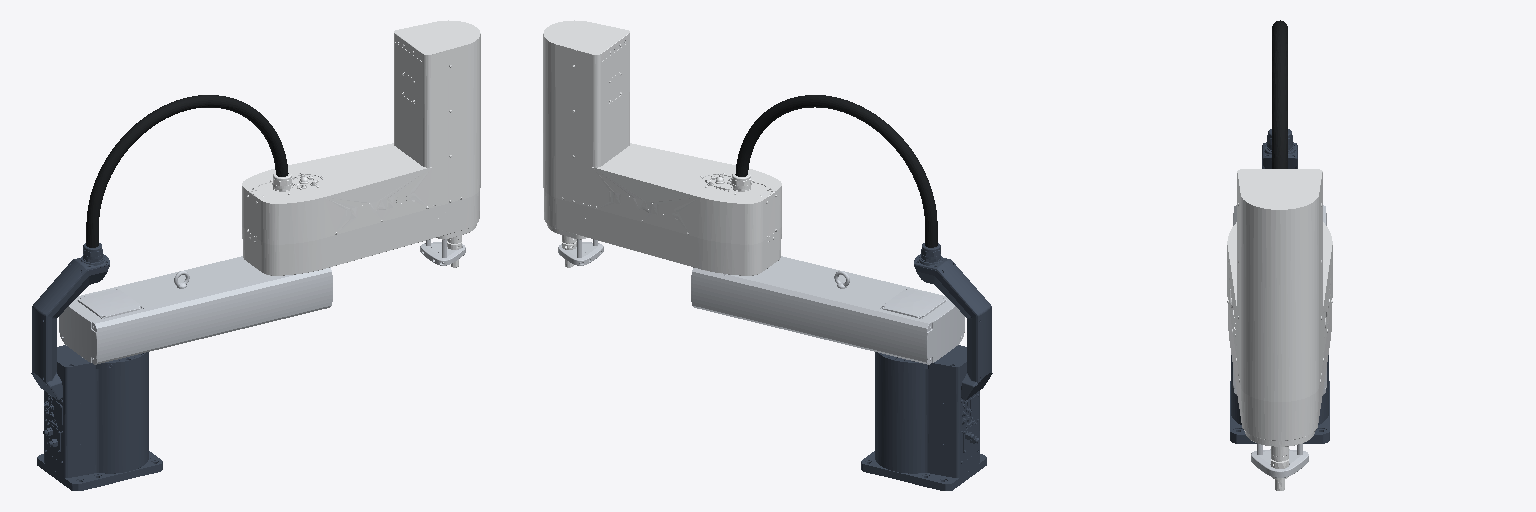
robot.urdf — IR-GS60-120Z40S5-C1LNSX-INT_01741178:
<?xml version="1.0"?>
<!-- Firmware source: params_package/Standard/Body/IR-GS60-120Z40S5-C1LNSX-INT_01741178/IR-GS60-120Z40S5-C1LNSX-INT_01741178.json; SHA256 c42f852a121e8f75b87a5e40a6e1e3116433f57a8d3c2ce19d96fe54a3c46a53. -->
<!-- Z-up; STL mm scaled to m. Effective firmware mass properties are SI and transformed into CAD link frames. -->
<!-- Revolute effort is nominal output torque; prismatic effort is ideal screw force. See physics-audit.json for approximations. -->
<robot name="IR-GS60-120Z40S5-C1LNSX-INT_01741178">
  <link name="base_link">

    <visual name="base">
      <origin xyz="0 0 0" rpy="0 0 0"/>
      <geometry>
        <mesh filename="../models/IR-GS60-120Z40/P0.stl" scale="0.001 0.001 0.001"/>
      </geometry>
      <material name="base_material">
        <color rgba="0.31 0.35 0.41 1"/>
      </material>
    </visual>
    <collision name="base_collision">
      <origin xyz="0 0 0" rpy="0 0 0"/>
      <geometry>
        <mesh filename="../models/IR-GS60-120Z40/P0.stl" scale="0.001 0.001 0.001"/>
      </geometry>
    </collision>

    <visual name="conduit">
      <origin xyz="0 0 0" rpy="0 0 0"/>
      <geometry>
        <mesh filename="../models/IR-GS60-120Z40/TUBE.stl" scale="0.001 0.001 0.001"/>
      </geometry>
      <material name="conduit_material">
        <color rgba="0.16 0.17 0.18 1"/>
      </material>
    </visual>
    <collision name="conduit_collision">
      <origin xyz="0 0 0" rpy="0 0 0"/>
      <geometry>
        <mesh filename="../models/IR-GS60-120Z40/TUBE.stl" scale="0.001 0.001 0.001"/>
      </geometry>
    </collision>
  </link>

  <link name="link_1">

    <!-- inertial source: bounding-box-fallback -->
    <!-- SCARA firmware contains planar inertia, not a full 3D tensor; uniform mesh-bounds approximation -->
    <inertial>
      <origin xyz="0.300010398865 0.0000001297 0.098740753174" rpy="0 0 0"/>
      <mass value="25.7726918119"/>
      <inertia ixx="0.208609868064" ixy="0" ixz="0" iyy="1.583492829913" iyz="0" izz="1.598169882618"/>
    </inertial>

    <visual name="link_1">
      <origin xyz="0 0 0" rpy="0 0 0"/>
      <geometry>
        <mesh filename="../models/IR-GS60-120Z40/P1.stl" scale="0.001 0.001 0.001"/>
      </geometry>
      <material name="link_1_material">
        <color rgba="0.84 0.86 0.89 1"/>
      </material>
    </visual>
    <collision name="link_1_collision">
      <origin xyz="0 0 0" rpy="0 0 0"/>
      <geometry>
        <mesh filename="../models/IR-GS60-120Z40/P1.stl" scale="0.001 0.001 0.001"/>
      </geometry>
    </collision>
  </link>

  <link name="link_2">

    <!-- inertial source: bounding-box-fallback -->
    <!-- SCARA firmware contains planar inertia, not a full 3D tensor; uniform mesh-bounds approximation -->
    <inertial>
      <origin xyz="0.284249130249 0.000004211426 0.430217041016" rpy="0 0 0"/>
      <mass value="42.1592263001"/>
      <inertia ixx="1.922788896992" ixy="0" ixz="0" iyy="3.846097902848" iyz="0" izz="2.375227240191"/>
    </inertial>

    <visual name="link_2">
      <origin xyz="-0.6 0 0" rpy="0 0 0"/>
      <geometry>
        <mesh filename="../models/IR-GS60-120Z40/P2.stl" scale="0.001 0.001 0.001"/>
      </geometry>
      <material name="link_2_material">
        <color rgba="0.94 0.95 0.96 1"/>
      </material>
    </visual>
    <collision name="link_2_collision">
      <origin xyz="-0.6 0 0" rpy="0 0 0"/>
      <geometry>
        <mesh filename="../models/IR-GS60-120Z40/P2.stl" scale="0.001 0.001 0.001"/>
      </geometry>
    </collision>
  </link>

  <link name="link_3">

    <!-- inertial source: bounding-box-fallback -->
    <!-- SCARA firmware contains planar inertia, not a full 3D tensor; uniform mesh-bounds approximation -->
    <inertial>
      <origin xyz="-0.030157470703 0.000003860474 0.382248046875" rpy="0 0 0"/>
      <mass value="2"/>
      <inertia ixx="0.079730858899" ixy="0" ixz="0" iyy="0.079166248416" iyz="0" izz="0.005893259654"/>
    </inertial>

    <visual name="link_3">
      <origin xyz="-1.2 0 0" rpy="0 0 0"/>
      <geometry>
        <mesh filename="../models/IR-GS60-120Z40/P3.stl" scale="0.001 0.001 0.001"/>
      </geometry>
      <material name="link_3_material">
        <color rgba="0.84 0.86 0.89 1"/>
      </material>
    </visual>
    <collision name="link_3_collision">
      <origin xyz="-1.2 0 0" rpy="0 0 0"/>
      <geometry>
        <mesh filename="../models/IR-GS60-120Z40/P3.stl" scale="0.001 0.001 0.001"/>
      </geometry>
    </collision>
  </link>

  <link name="link_4">

    <!-- inertial source: bounding-box-fallback -->
    <!-- SCARA firmware contains planar inertia, not a full 3D tensor; uniform mesh-bounds approximation -->
    <inertial>
      <origin xyz="-0.000101928711 -0.000000015259 0.365499603271" rpy="0 0 0"/>
      <mass value="1.9156446409"/>
      <inertia ixx="0.085589133284" ixy="0" ixz="0" iyy="0.085642359554" iyz="0" izz="0.000616425897"/>
    </inertial>

    <visual name="link_4">
      <origin xyz="-1.2 0 0" rpy="0 0 0"/>
      <geometry>
        <mesh filename="../models/IR-GS60-120Z40/P4.stl" scale="0.001 0.001 0.001"/>
      </geometry>
      <material name="link_4_material">
        <color rgba="0.94 0.95 0.96 1"/>
      </material>
    </visual>
    <collision name="link_4_collision">
      <origin xyz="-1.2 0 0" rpy="0 0 0"/>
      <geometry>
        <mesh filename="../models/IR-GS60-120Z40/P4.stl" scale="0.001 0.001 0.001"/>
      </geometry>
    </collision>
  </link>

  <joint name="J1" type="revolute">
    <parent link="base_link"/>
    <child link="link_1"/>
    <origin xyz="0 0 0" rpy="0 0 0"/>
    <axis xyz="0 0 1"/>
    <limit lower="-2.356194490192" upper="2.356194490192" effort="735.3" velocity="3.895574890451"/>
  </joint>

  <joint name="J2" type="revolute">
    <parent link="link_1"/>
    <child link="link_2"/>
    <origin xyz="0.6 0 0" rpy="0 0 0"/>
    <axis xyz="0 0 1"/>
    <limit lower="-2.617993877991" upper="2.617993877991" effort="289.19" velocity="4.586725274241"/>
  </joint>

  <joint name="J3" type="prismatic">
    <parent link="link_2"/>
    <child link="link_3"/>
    <origin xyz="0.6 0 0" rpy="0 0 0"/>
    <axis xyz="0 0 1"/>
    <limit lower="-0.4" upper="0.002" effort="998.618056796588" velocity="1.282"/> <!-- ideal screw force: 2*pi*ratedTrq*abs(ratio)/lead_m; efficiency=1 -->
  </joint>

  <joint name="J4" type="revolute">
    <parent link="link_3"/>
    <child link="link_4"/>
    <origin xyz="0 0 0" rpy="0 0 0"/>
    <axis xyz="0 0 1"/>
    <limit lower="-6.28318530718" upper="6.28318530718" effort="63.5" velocity="10.471975511966"/>
  </joint>

  <link name="tool0"/>
  <joint name="tool0_fixed" type="fixed">
    <parent link="link_4"/>
    <child link="tool0"/>
    <origin xyz="0 0 0" rpy="0 0 0"/>
  </joint>
</robot>

--- What the picture shows (computed from the rendered views, not written in the file) ---
The picture shows the robot from 3 angles, left to right: view 1: azimuth 30°, elevation 25°; view 2: azimuth 150°, elevation 25°; view 3: azimuth 270°, elevation 25°; orthographic projection.
Model IR-GS60-120Z40S5-C1LNSX-INT_01741178 with 6 links and 5 joints (3 revolute, 1 prismatic, 1 fixed), rooted at base_link, posed all joints at 0.
Visible links, largest first — view 1: link_2, base_link, link_1, link_3; view 2: link_2, base_link, link_1, link_3; view 3: link_2, base_link, link_3.
Boxes of the visible links, box(x1,y1,x2,y2) form: link_2: box(242, 20, 480, 275); base_link: box(31, 95, 288, 490); link_1: box(59, 256, 332, 364); link_3: box(420, 239, 465, 265); link_2: box(543, 20, 781, 275); base_link: box(735, 95, 992, 490); link_1: box(691, 256, 964, 364); link_3: box(558, 239, 603, 265); link_2: box(1227, 169, 1332, 461); base_link: box(1230, 20, 1329, 443); link_3: box(1251, 443, 1308, 477).
Bounding box of the posed robot: 1.53 × 0.2536 × 1.16 m (x, y, z).
6 mesh visuals loaded from 6 distinct referenced files (6 binary STL).
